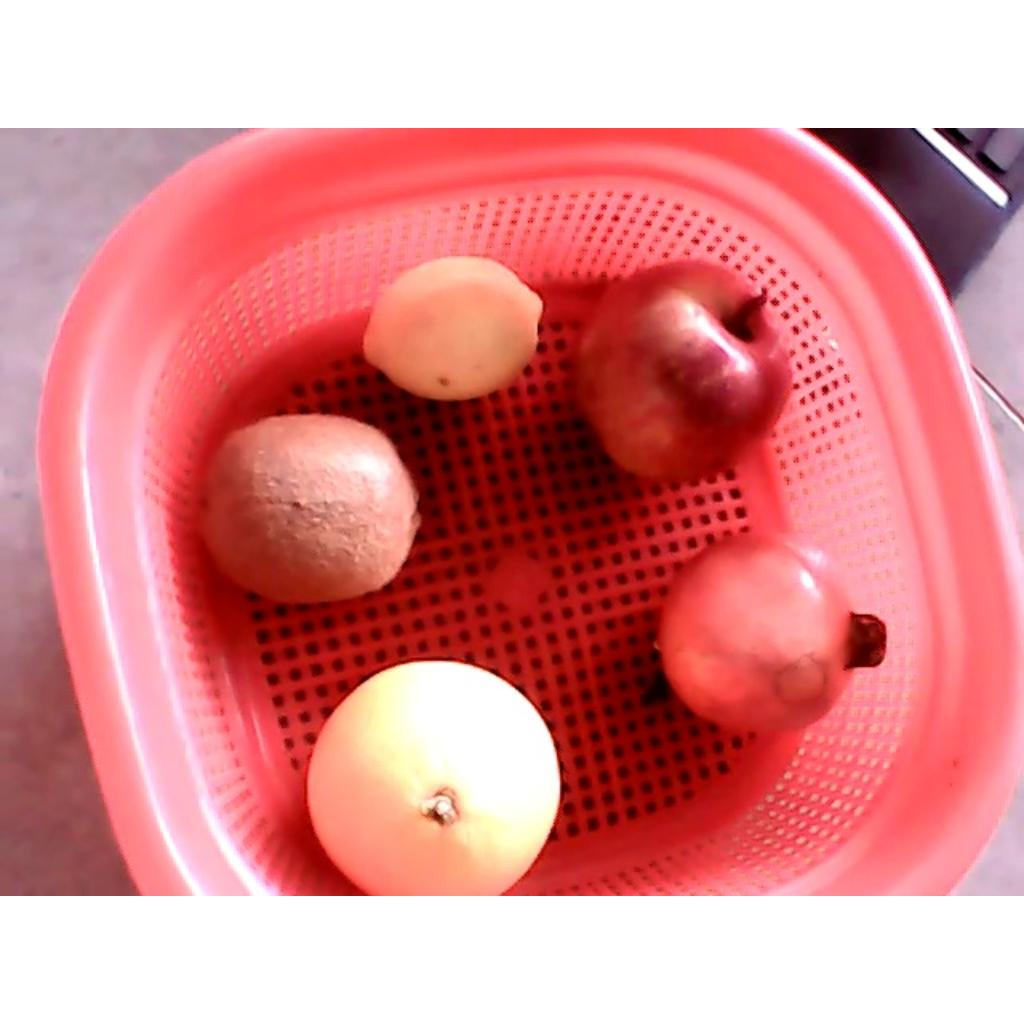apple: (572, 259, 797, 483)
kiwi: (196, 414, 417, 605)
lemon: (361, 254, 544, 401)
orange: (306, 660, 561, 894)
pomegranate: (657, 531, 888, 734)
